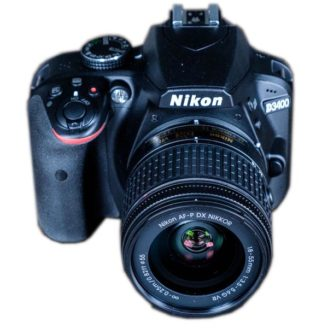kamera: (21, 3, 302, 325)
